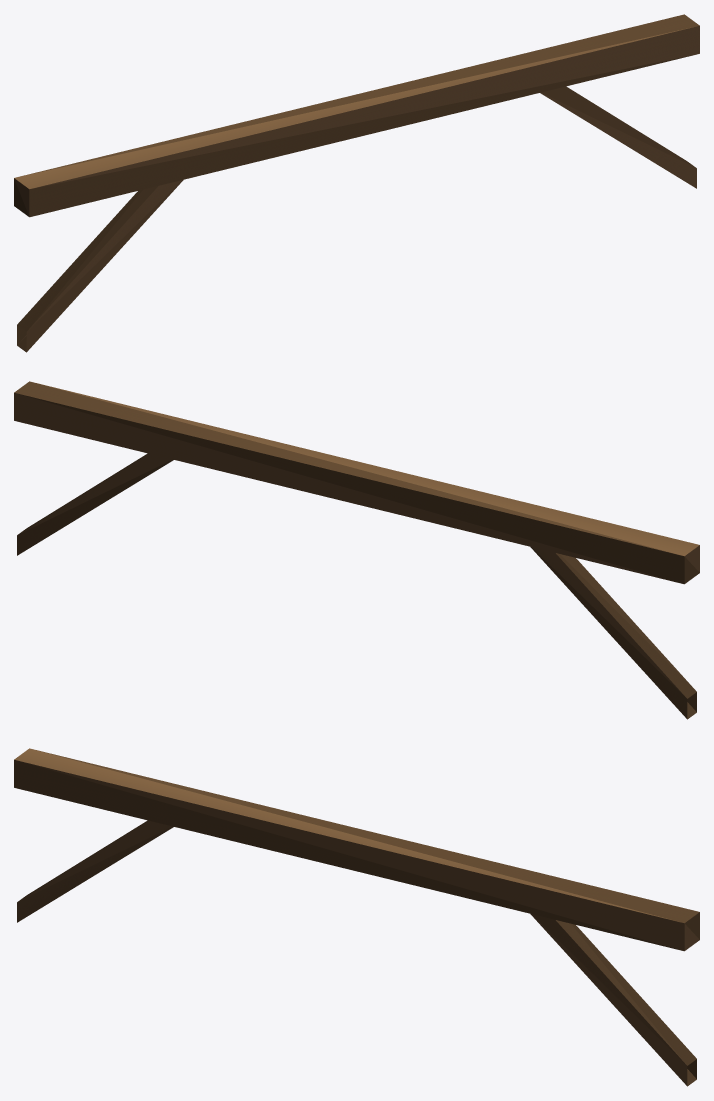
The model's file is Wood_4_Lod1.fbx.
The picture shows the model from 3 angles, top to bottom: view 1: azimuth 30°, elevation 25°; view 2: azimuth 150°, elevation 25°; view 3: azimuth 330°, elevation 25°; orthographic projection.
Parts seen in each view (by area): view 1: polySurface1092; view 2: polySurface1092; view 3: polySurface1092.
Boxes of the visible parts, <box> form: polySurface1092: <box>14,14,699,352</box>; polySurface1092: <box>14,381,699,719</box>; polySurface1092: <box>14,748,699,1086</box>.
Bounding box in the file's own units: 1000 × 236 × 40.
Materials: 1 (1 with a texture image).
